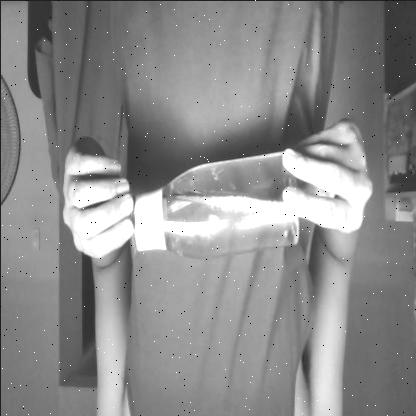Plastic Bottle: (125, 135, 307, 262)
